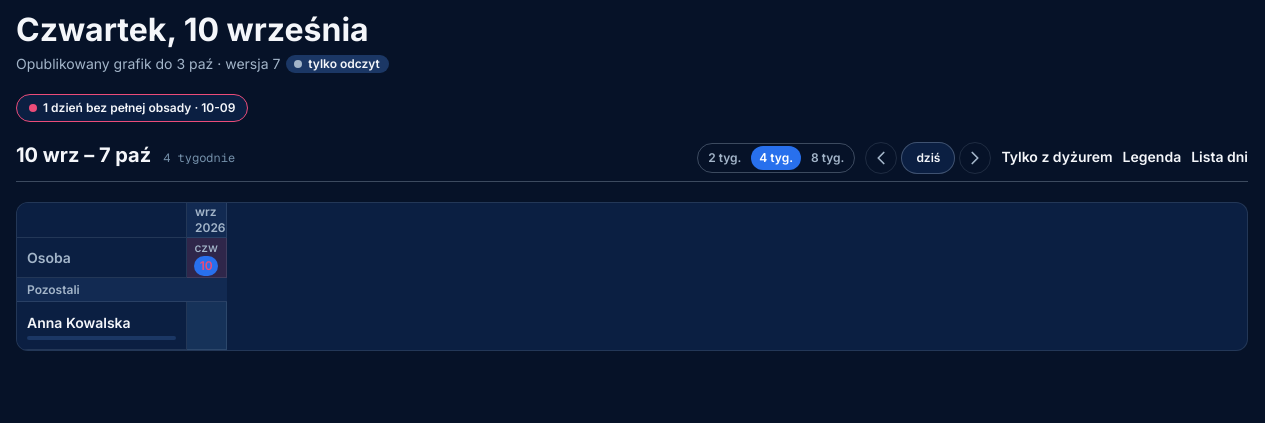
Test: DutyScreen in a share-link session › keeps a long link navigable but never lets the window leave it
Expected: the heading "10 wrz – 7 paź" is shown, [16, 143, 151, 167]
Click the button named "Cofnij o tydzień" at [881, 158], box [865, 142, 897, 174]
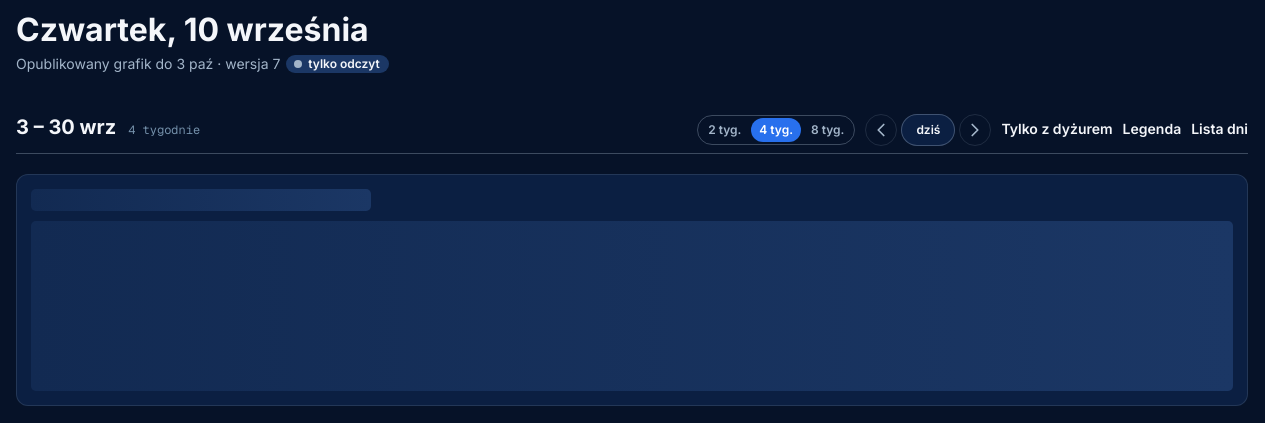
Expected: the heading "3 – 30 wrz" is shown, [16, 115, 116, 139]
Click the button named "Cofnij o tydzień" at [881, 130], box [865, 114, 897, 146]
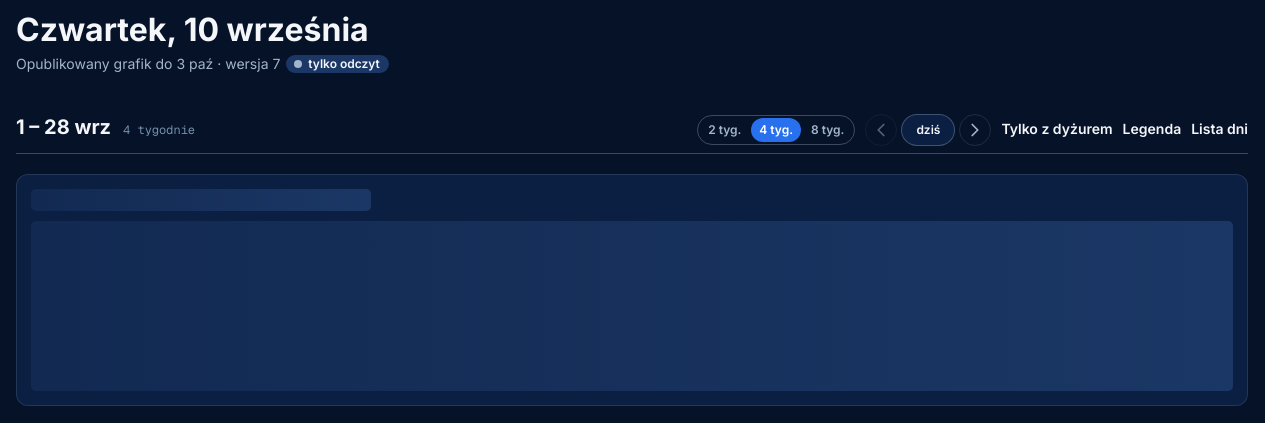
Expected: the heading "1 – 28 wrz" is shown, [16, 115, 111, 139]
Expected: the button named "Cofnij o tydzień" is disabled, [865, 114, 897, 146]
// Eight weeks from today would run past the link: the window ends on its last day.
Click the button "dziś" at [928, 130], box [901, 114, 955, 146]
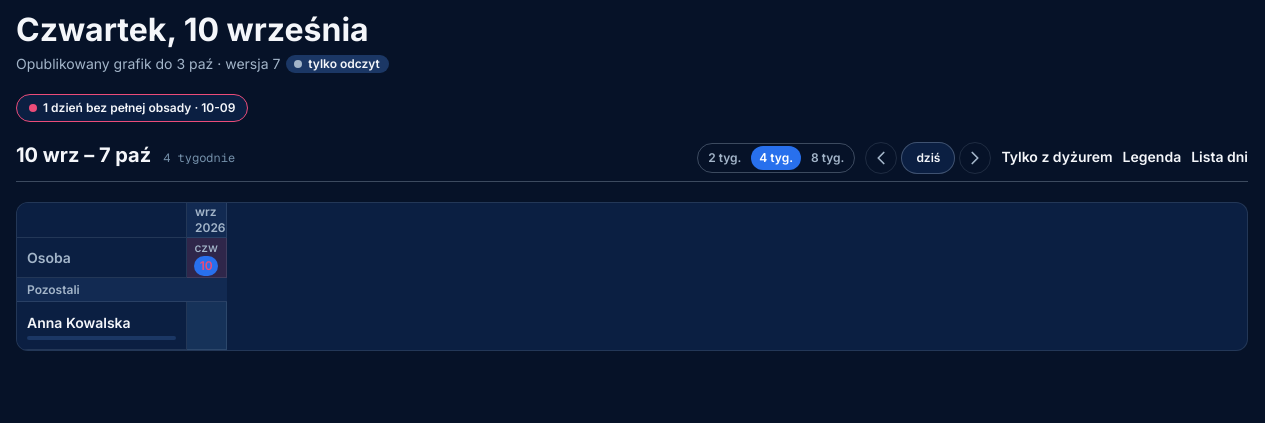
Click the radio button labelled "8 tyg." at [828, 158], box [803, 146, 852, 170]
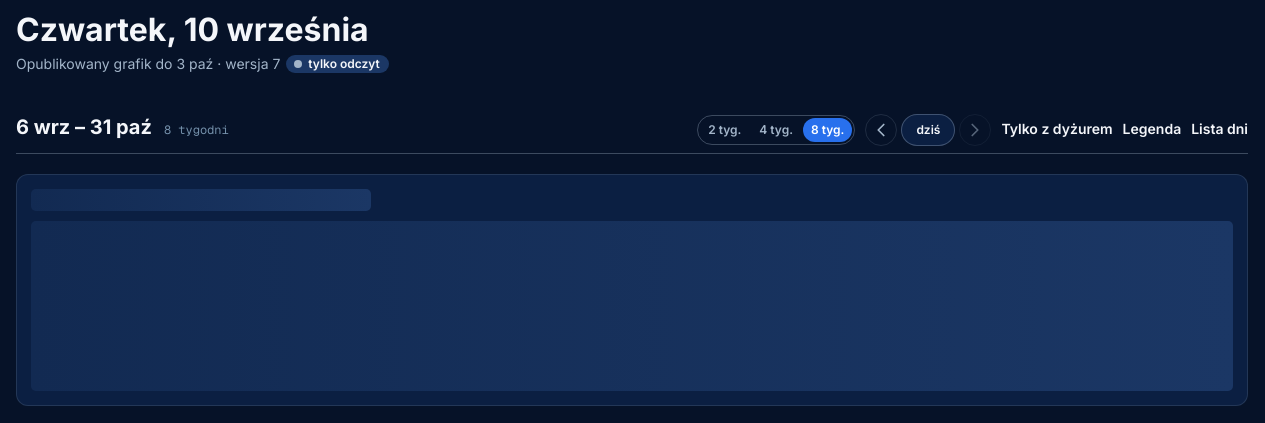
Expected: the heading "6 wrz – 31 paź" is shown, [16, 115, 152, 139]
Expected: the button named "Do przodu o tydzień" is disabled, [959, 114, 991, 146]
// One step back moves from the window shown, not from where today would put it.
Click the button named "Cofnij o tydzień" at [881, 130], box [865, 114, 897, 146]
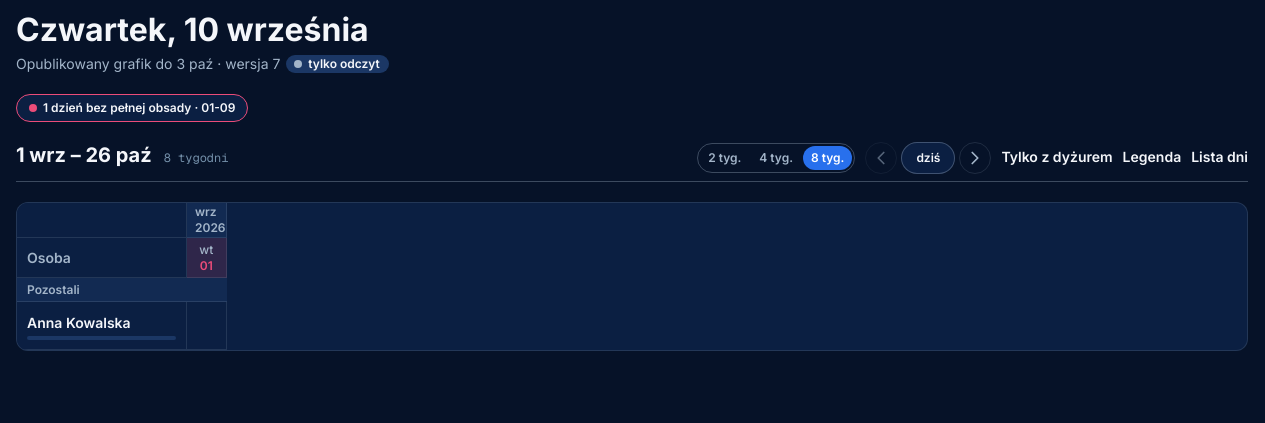
Expected: the heading "1 wrz – 26 paź" is shown, [16, 143, 152, 167]
